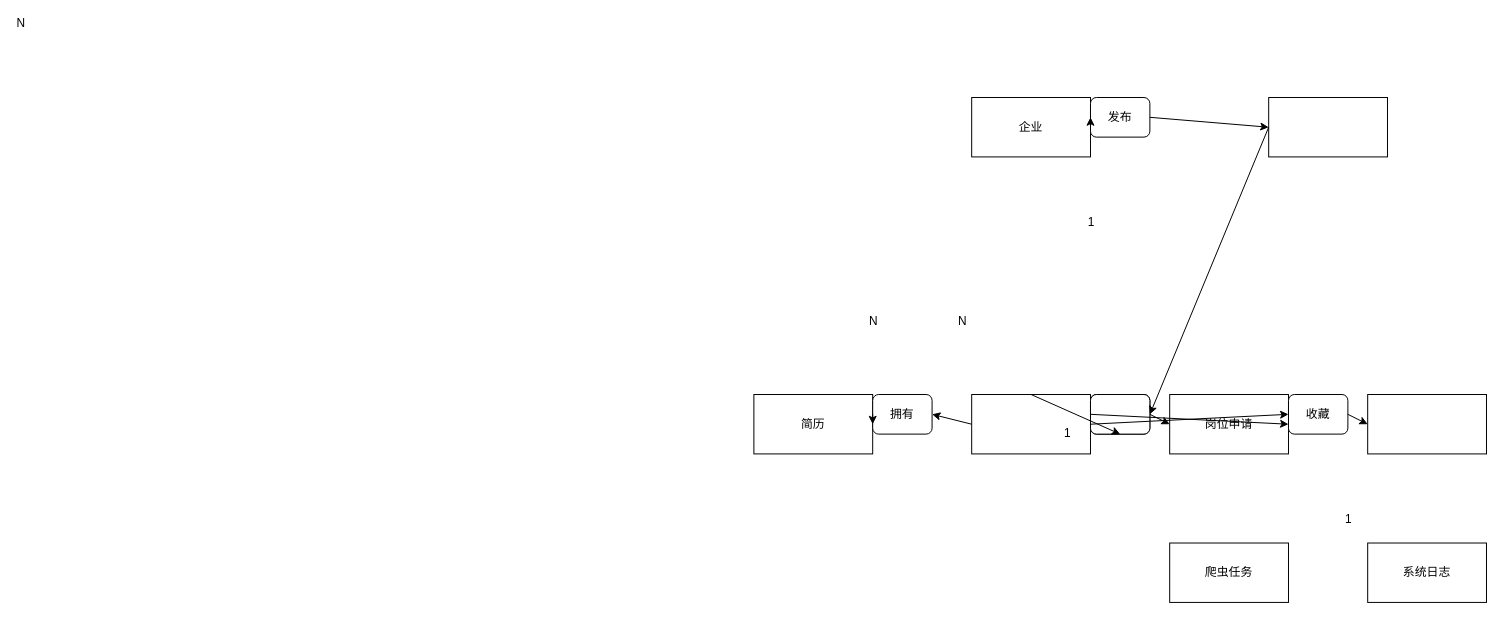
This 1504x621 diagram has some shape labels left out. The centre of each missing label's shape, as x and y in pixels:
"属于" belongs at pixel 1119 414.
"岗位" belongs at pixel 1327 127.
"岗位收藏" belongs at pixel 1426 424.
"用户" belongs at pixel 1030 424.
